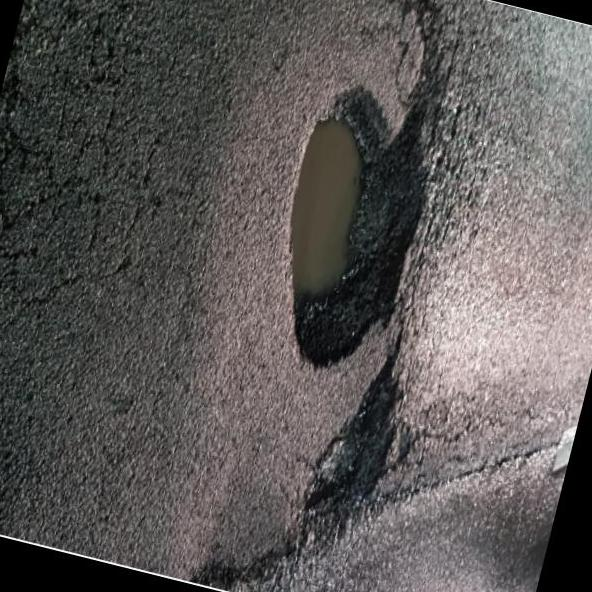pothole: (242, 51, 469, 401), (287, 332, 441, 578)
